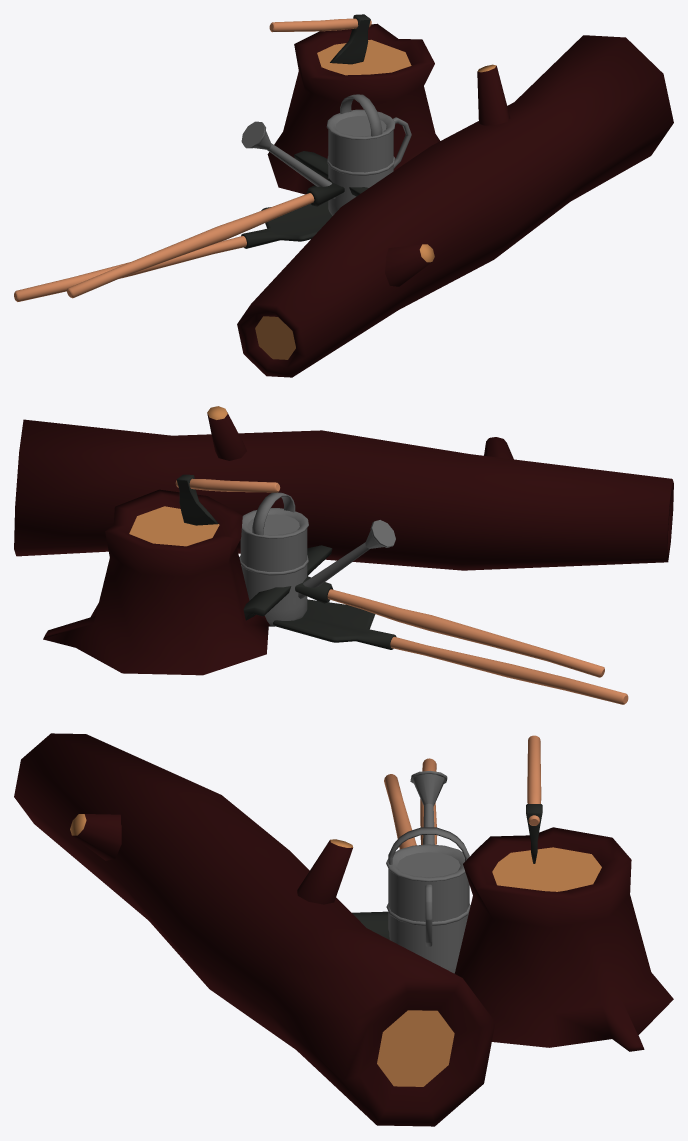
The model's file is Set7Decoración.fbx.
3 renders of one model, top to bottom at view 1: azimuth 30°, elevation 25°; view 2: azimuth 150°, elevation 25°; view 3: azimuth 270°, elevation 25°, orthographic. The views are drawn at different scales.
Visible parts, largest first — view 1: Madera caída, Regadera, Rastrillo, Pala; view 2: Madera caída, Regadera, Pala, Rastrillo; view 3: Madera caída, Regadera, Rastrillo.
Boxes of the visible parts, box(x1,y1,x2,y2) form: Madera caída: box(237, 14, 673, 377); Regadera: box(241, 94, 411, 215); Rastrillo: box(67, 151, 368, 298); Pala: box(14, 201, 332, 301); Madera caída: box(14, 406, 673, 675); Regadera: box(239, 492, 395, 626); Pala: box(273, 599, 628, 704); Rastrillo: box(243, 545, 604, 677); Madera caída: box(14, 733, 673, 1126); Regadera: box(386, 770, 470, 973); Rastrillo: box(352, 774, 416, 939).
Bounding box in the file's own units: 398 × 108 × 295.
